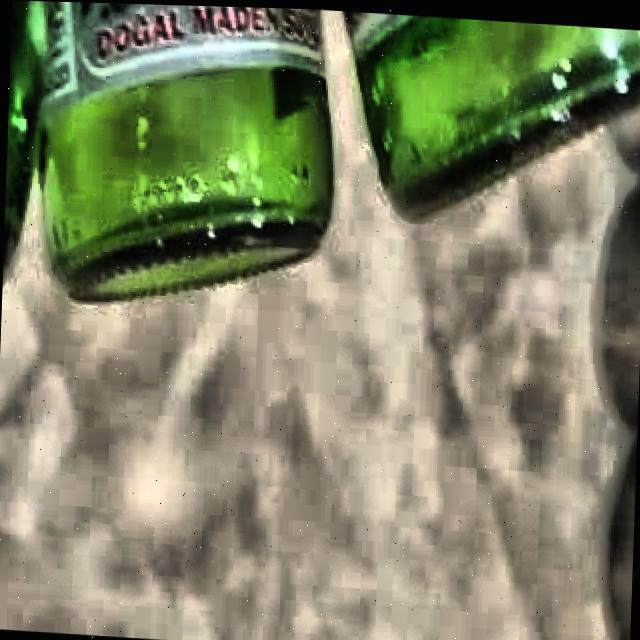glass: (2, 0, 331, 300)
